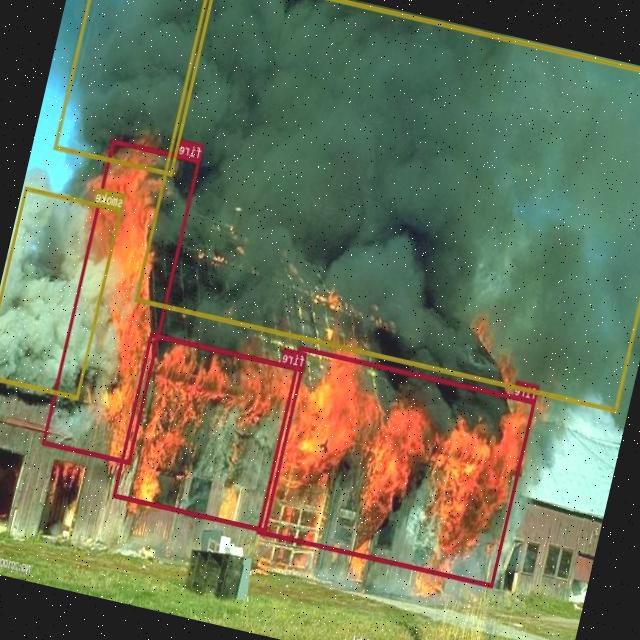fire: (257, 346, 536, 588), (42, 139, 200, 464), (112, 332, 304, 532)
smoke: (135, 0, 640, 411), (54, 0, 219, 175), (0, 185, 123, 398)
